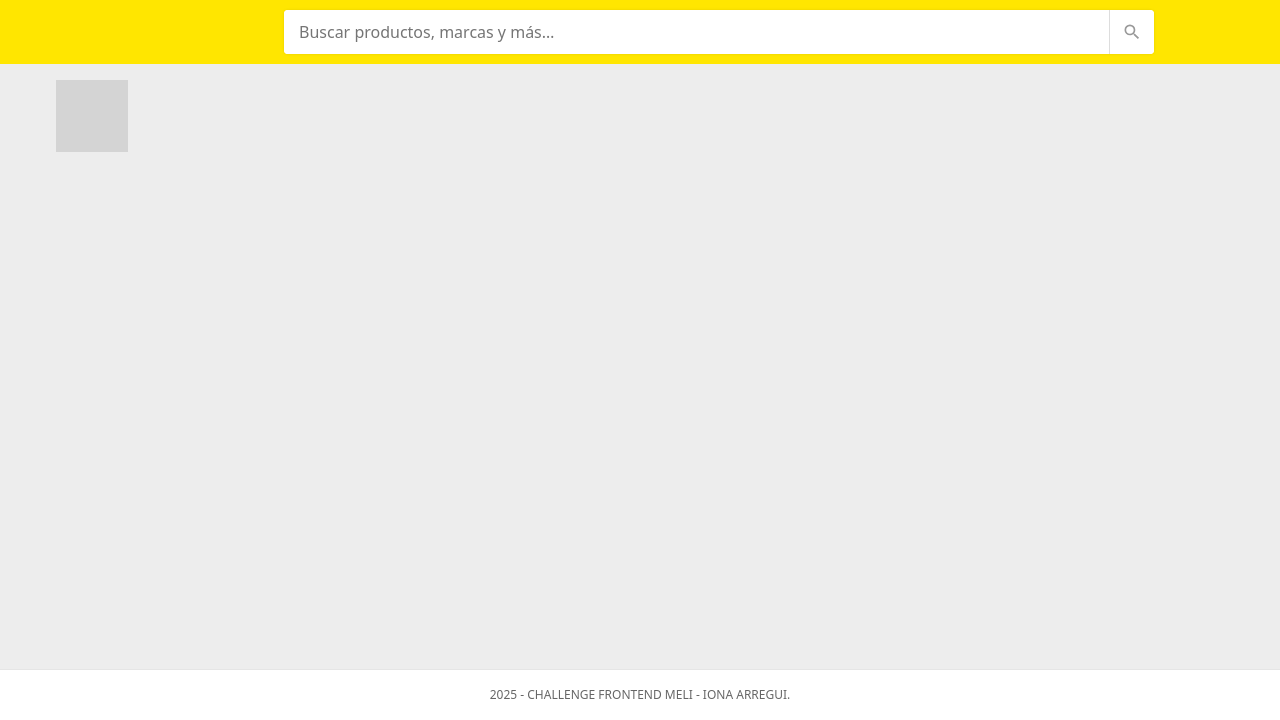
Búsqueda de Productos › debería mostrar mensaje cuando no hay resultados
Step 1. Type "producto-inexistente" into the field with test id "search-input" → (697, 32), box [284, 10, 1109, 54]
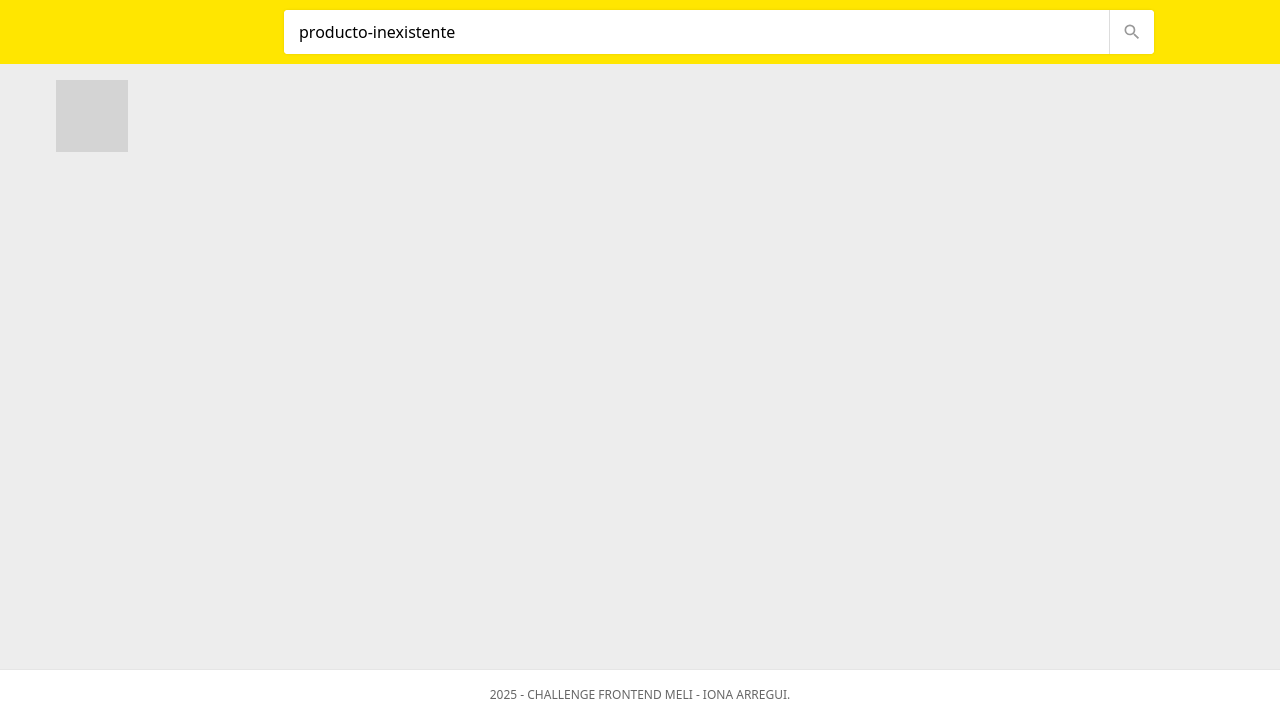
Step 2. Click the button with test id "search-button" → (1132, 32), box [1122, 22, 1142, 42]
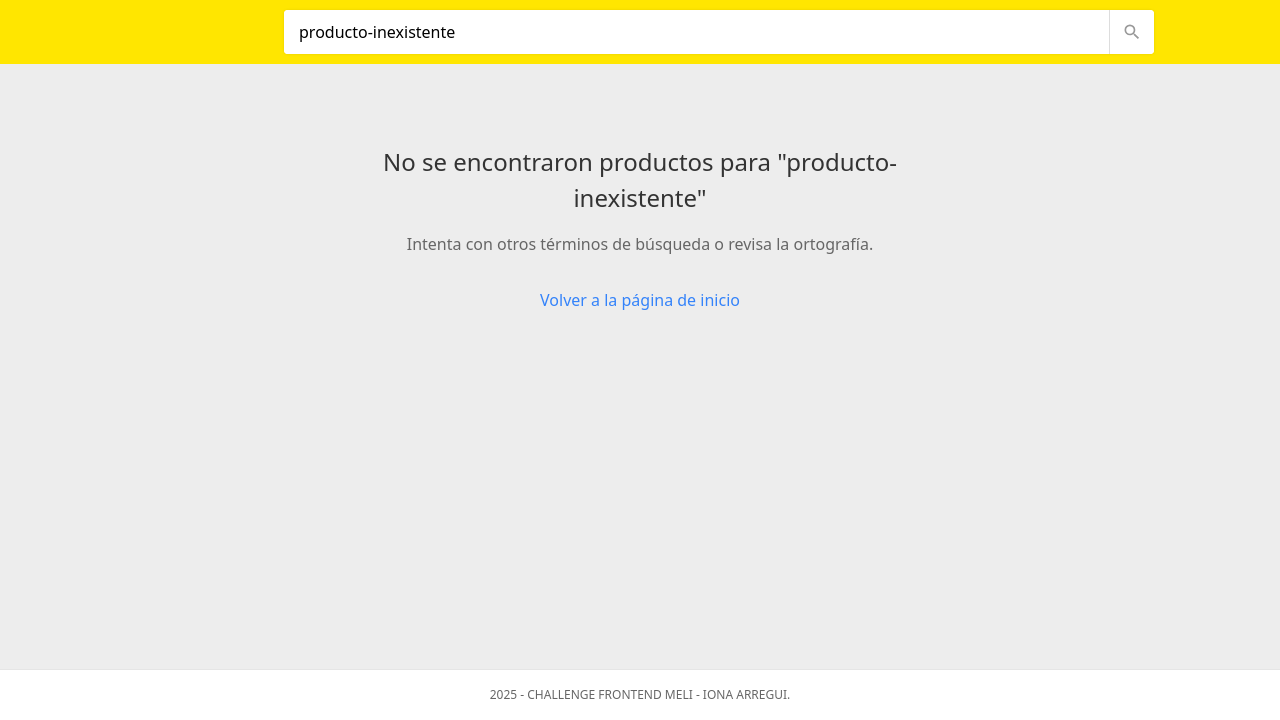
Expected: the element with test id "empty-results" is shown, [383, 145, 897, 312]
Expected: the heading "No se encontraron productos para \"producto-inexistente\"" is shown, [372, 144, 908, 216]
